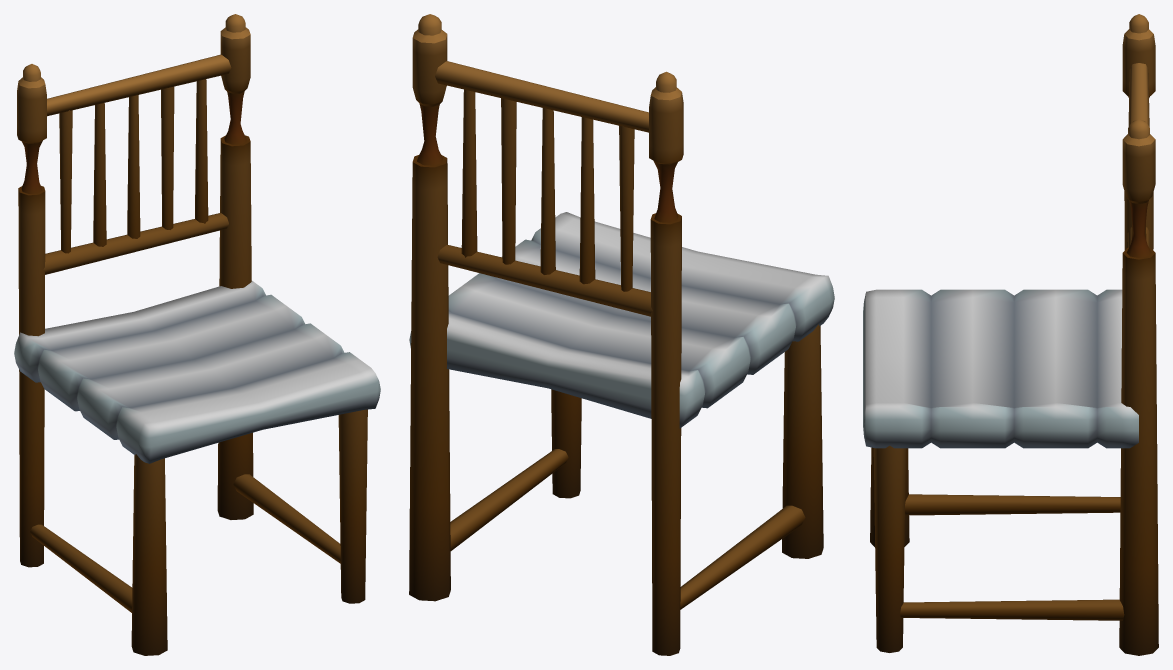
The model's file is H&J_Silla.fbx.
The picture shows the model from 3 angles, left to right: view 1: azimuth 30°, elevation 25°; view 2: azimuth 150°, elevation 25°; view 3: azimuth 270°, elevation 25°; orthographic projection. The views are drawn at different scales.
Parts seen in each view (by area): view 1: LAGS_SillaMadera; view 2: LAGS_SillaMadera; view 3: LAGS_SillaMadera.
Boxes of the visible parts, x1,y1,x2,y2 form: LAGS_SillaMadera: (14, 14, 380, 655); LAGS_SillaMadera: (409, 14, 834, 655); LAGS_SillaMadera: (863, 14, 1158, 655).
Size of the model in its own units: 70.49 by 140 by 71.19.
